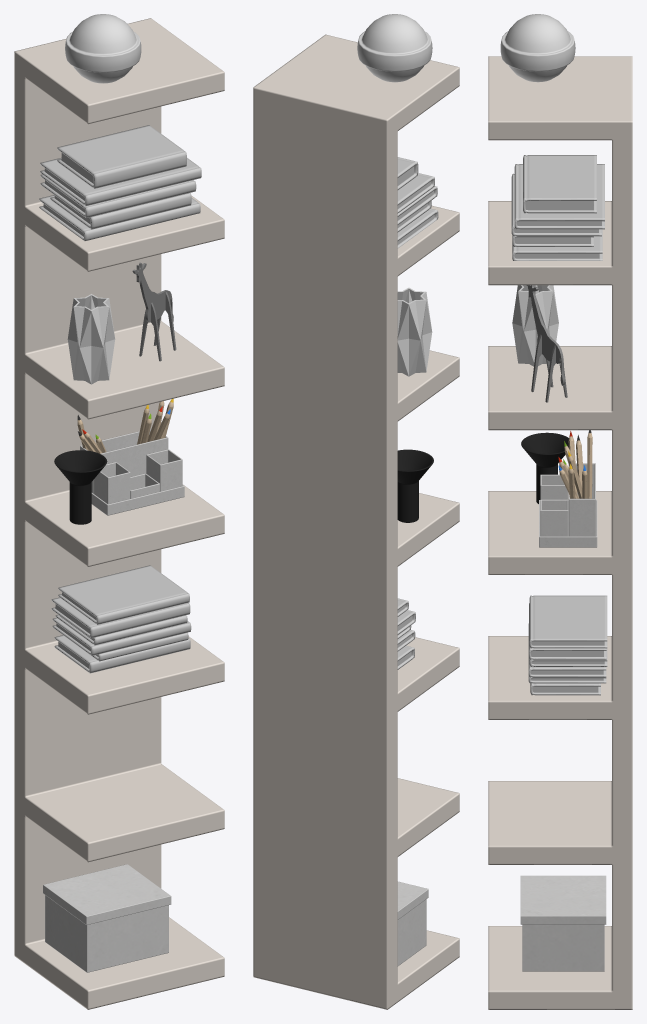
The model's file is WallShelf1.fbx.
3 renders of one model, left to right at view 1: azimuth 30°, elevation 25°; view 2: azimuth 150°, elevation 25°; view 3: azimuth 270°, elevation 25°, orthographic.
Parts seen in each view (by area): view 1: SM_WallShelf1_01; view 2: SM_WallShelf1_01; view 3: SM_WallShelf1_01.
Part boxes in pixels (bbox=[...]): SM_WallShelf1_01: bbox=[14, 14, 224, 1009]; SM_WallShelf1_01: bbox=[253, 14, 459, 1009]; SM_WallShelf1_01: bbox=[488, 14, 632, 1009].
Bounding box in the file's own units: 30.05 × 203 × 28.
